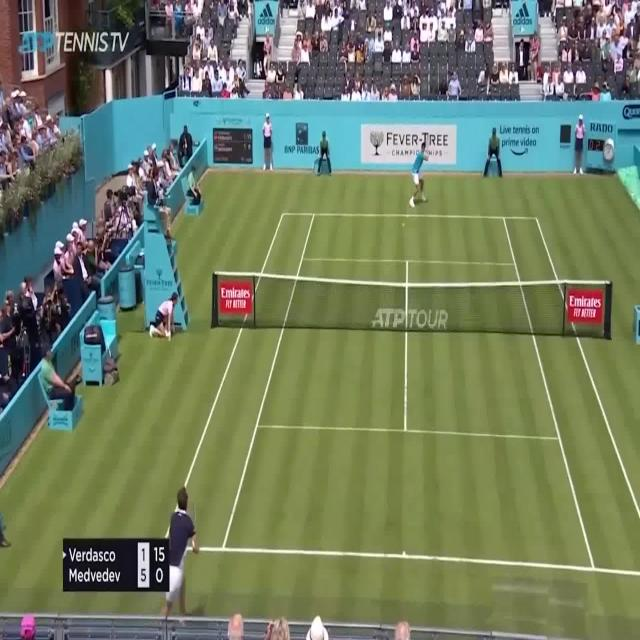bottom-dead-zone: (223, 425, 595, 570)
court: (163, 214, 640, 576)
left-doubles-alley: (162, 214, 314, 549)
left-service-box: (255, 258, 407, 430)
net: (209, 271, 613, 343)
right-doubles-alley: (503, 217, 640, 573)
right-service-box: (404, 260, 562, 440)
top-dead-zone: (302, 215, 516, 263)
